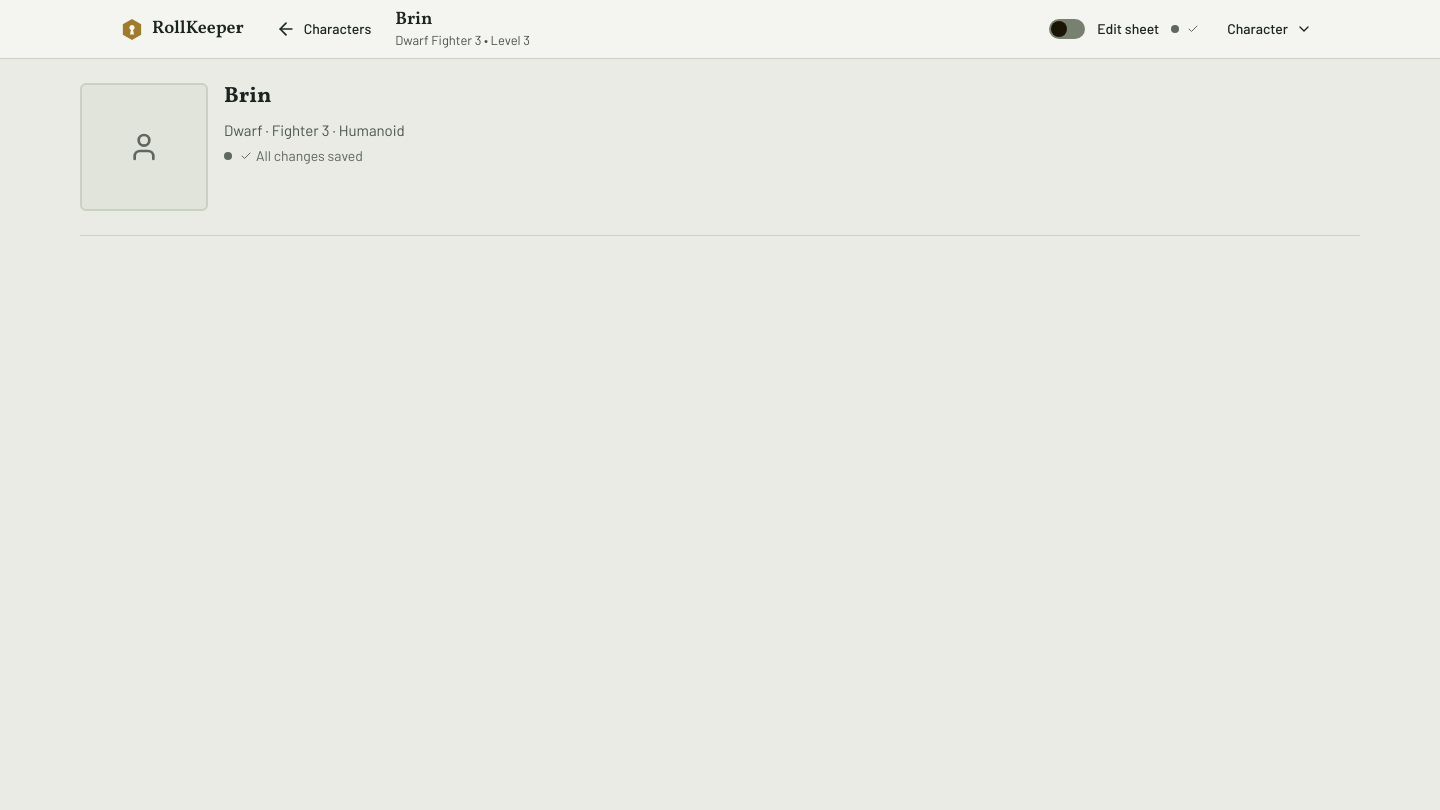
keeps sheet actions in the header and leaves import on the dashboard
Expected: the header "Character" is shown, [0,0,1439,59]
Click the button "Character": (1270, 29) [1211,11,1328,47]
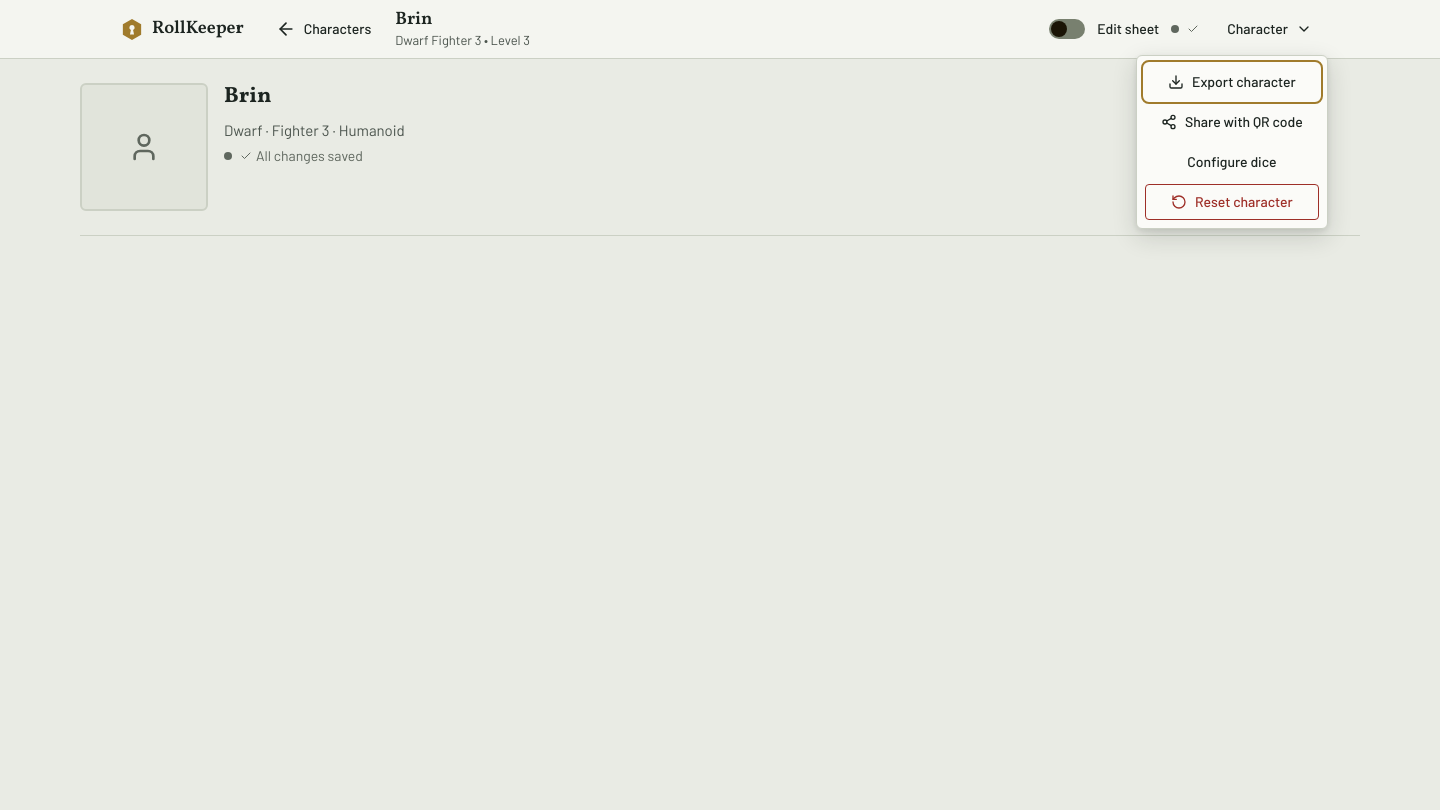
Now the button "Export character" is shown, box [1145,64,1319,100]
Now the button "Share with QR code" is shown, box [1145,104,1319,140]
Now the button "Reset character" is shown, box [1145,184,1319,220]
